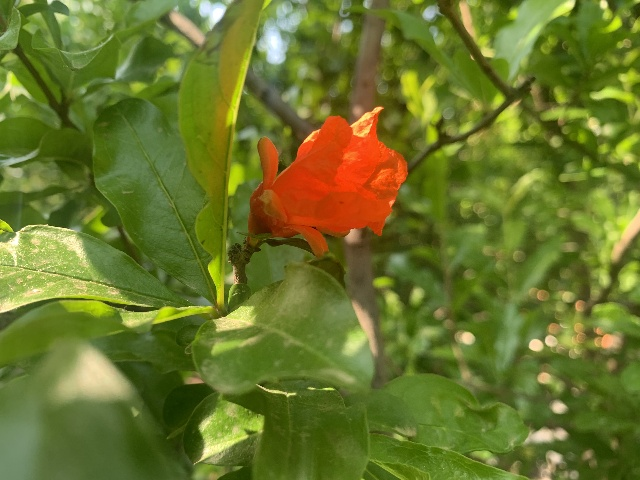flower: (247, 106, 408, 257)
